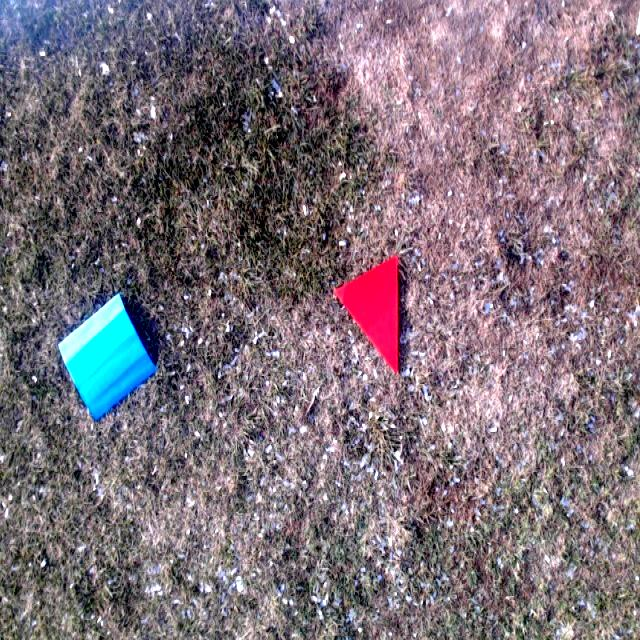blue_square: (57, 294, 158, 427)
red_triangle: (331, 258, 399, 378)
